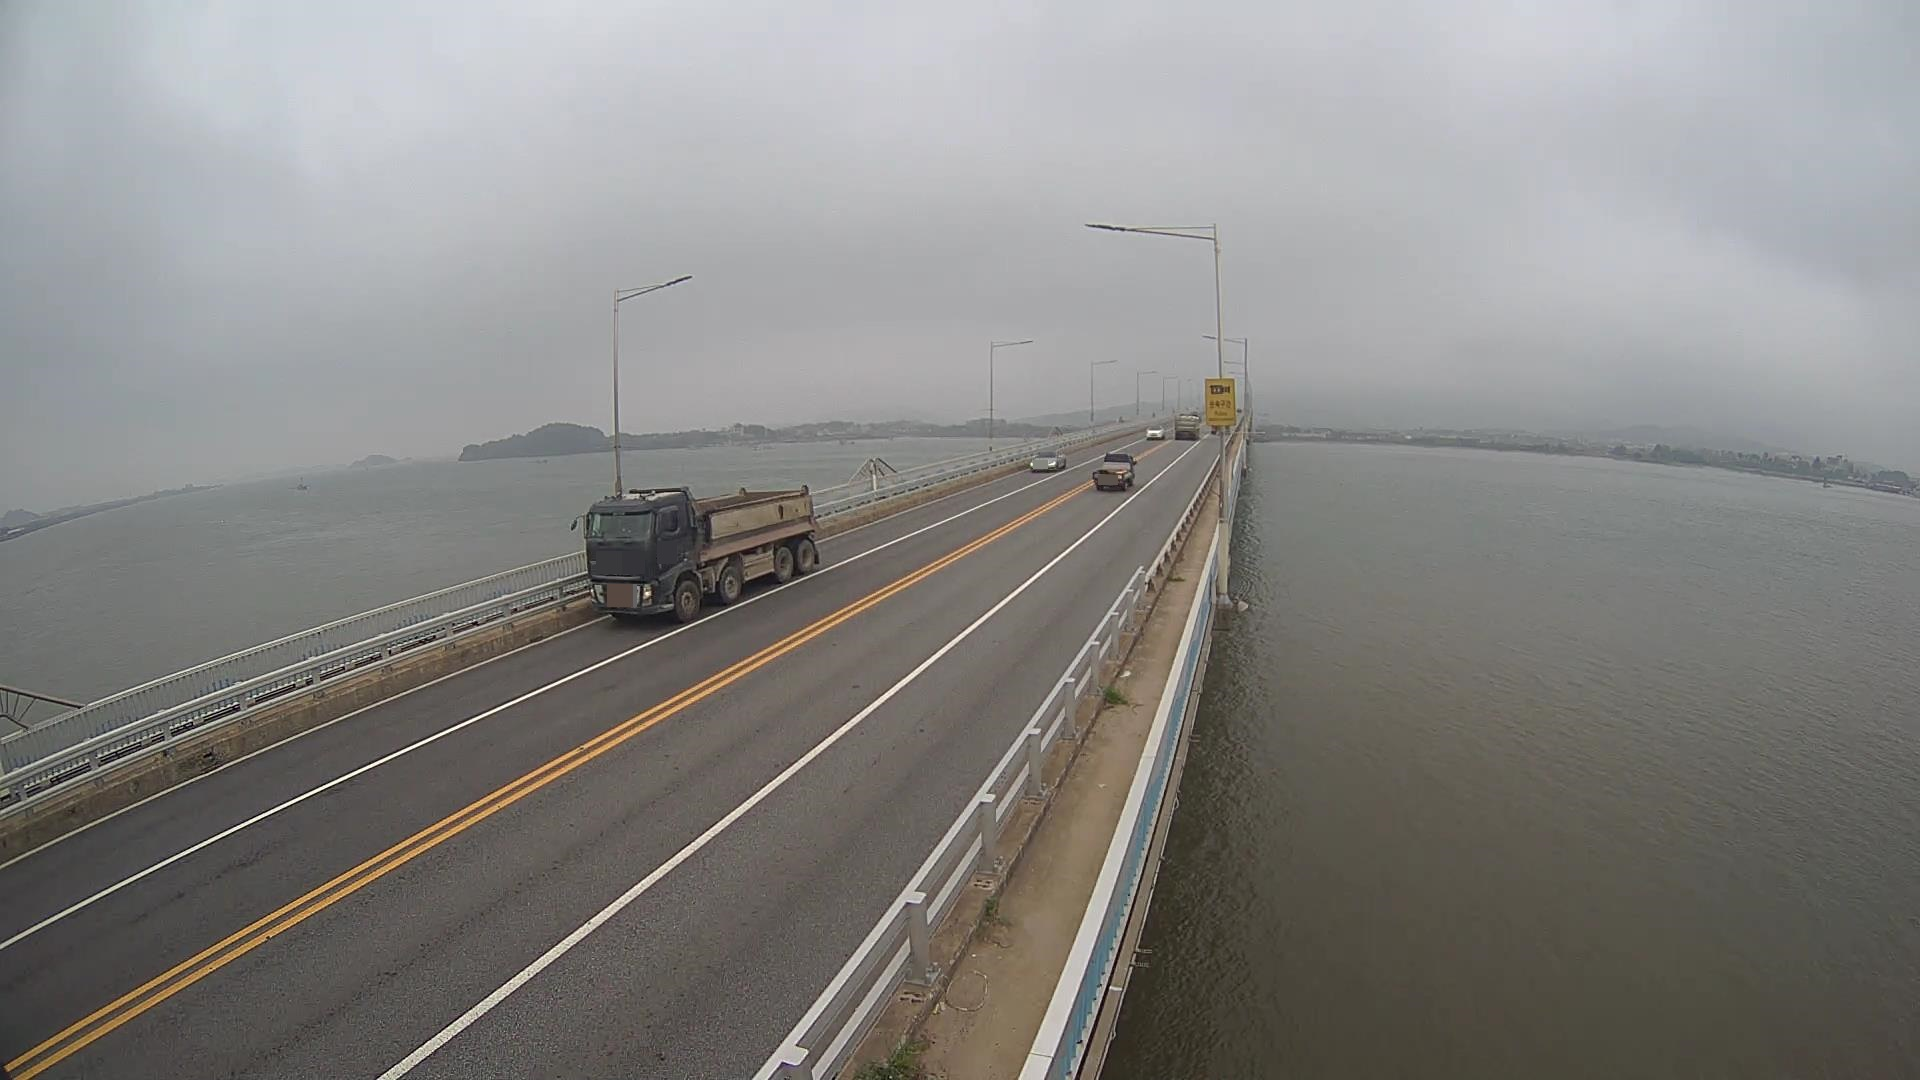정상차량: (571, 484, 822, 622)
